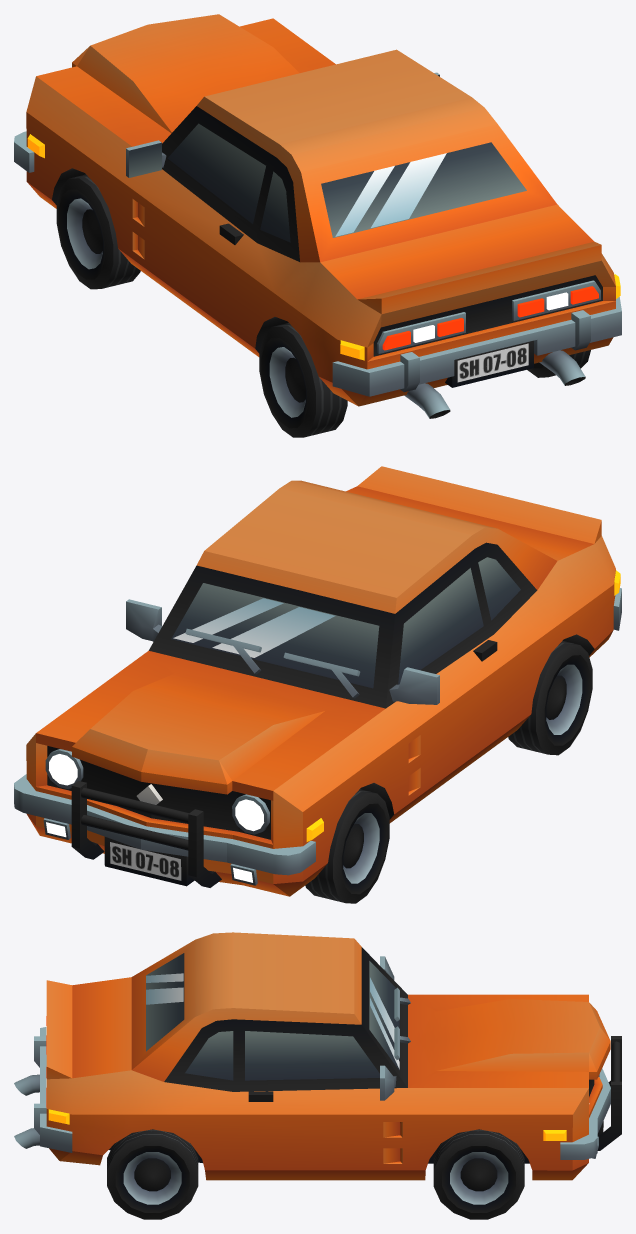
The picture shows the model from 3 angles, top to bottom: view 1: azimuth 30°, elevation 25°; view 2: azimuth 150°, elevation 25°; view 3: azimuth 270°, elevation 25°; orthographic projection. The views are drawn at different scales.
Visible parts, largest first — view 1: vehicle_pink; view 2: vehicle_pink; view 3: vehicle_pink.
Part boxes in pixels (x1,y1,x2,y2): vehicle_pink: (14, 14, 621, 437); vehicle_pink: (14, 466, 621, 903); vehicle_pink: (14, 932, 621, 1219).
Size of the model in its own units: 2.29 by 1.7 by 4.82.
2 materials, 2 textured.
